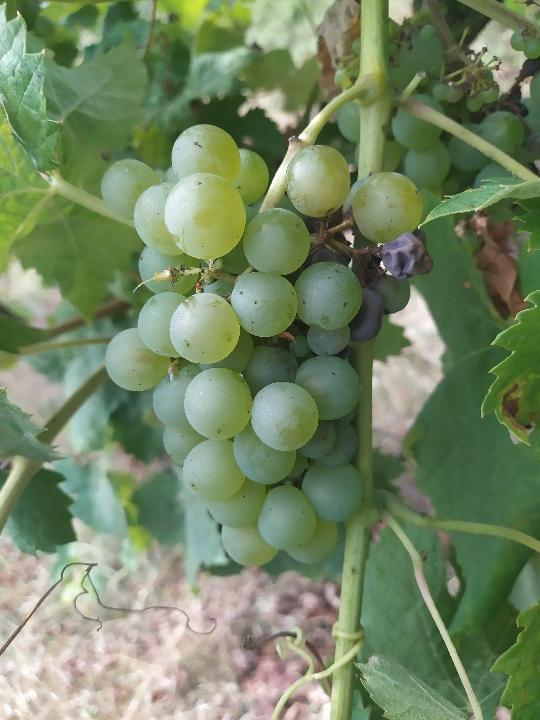grape: (98, 120, 427, 570)
